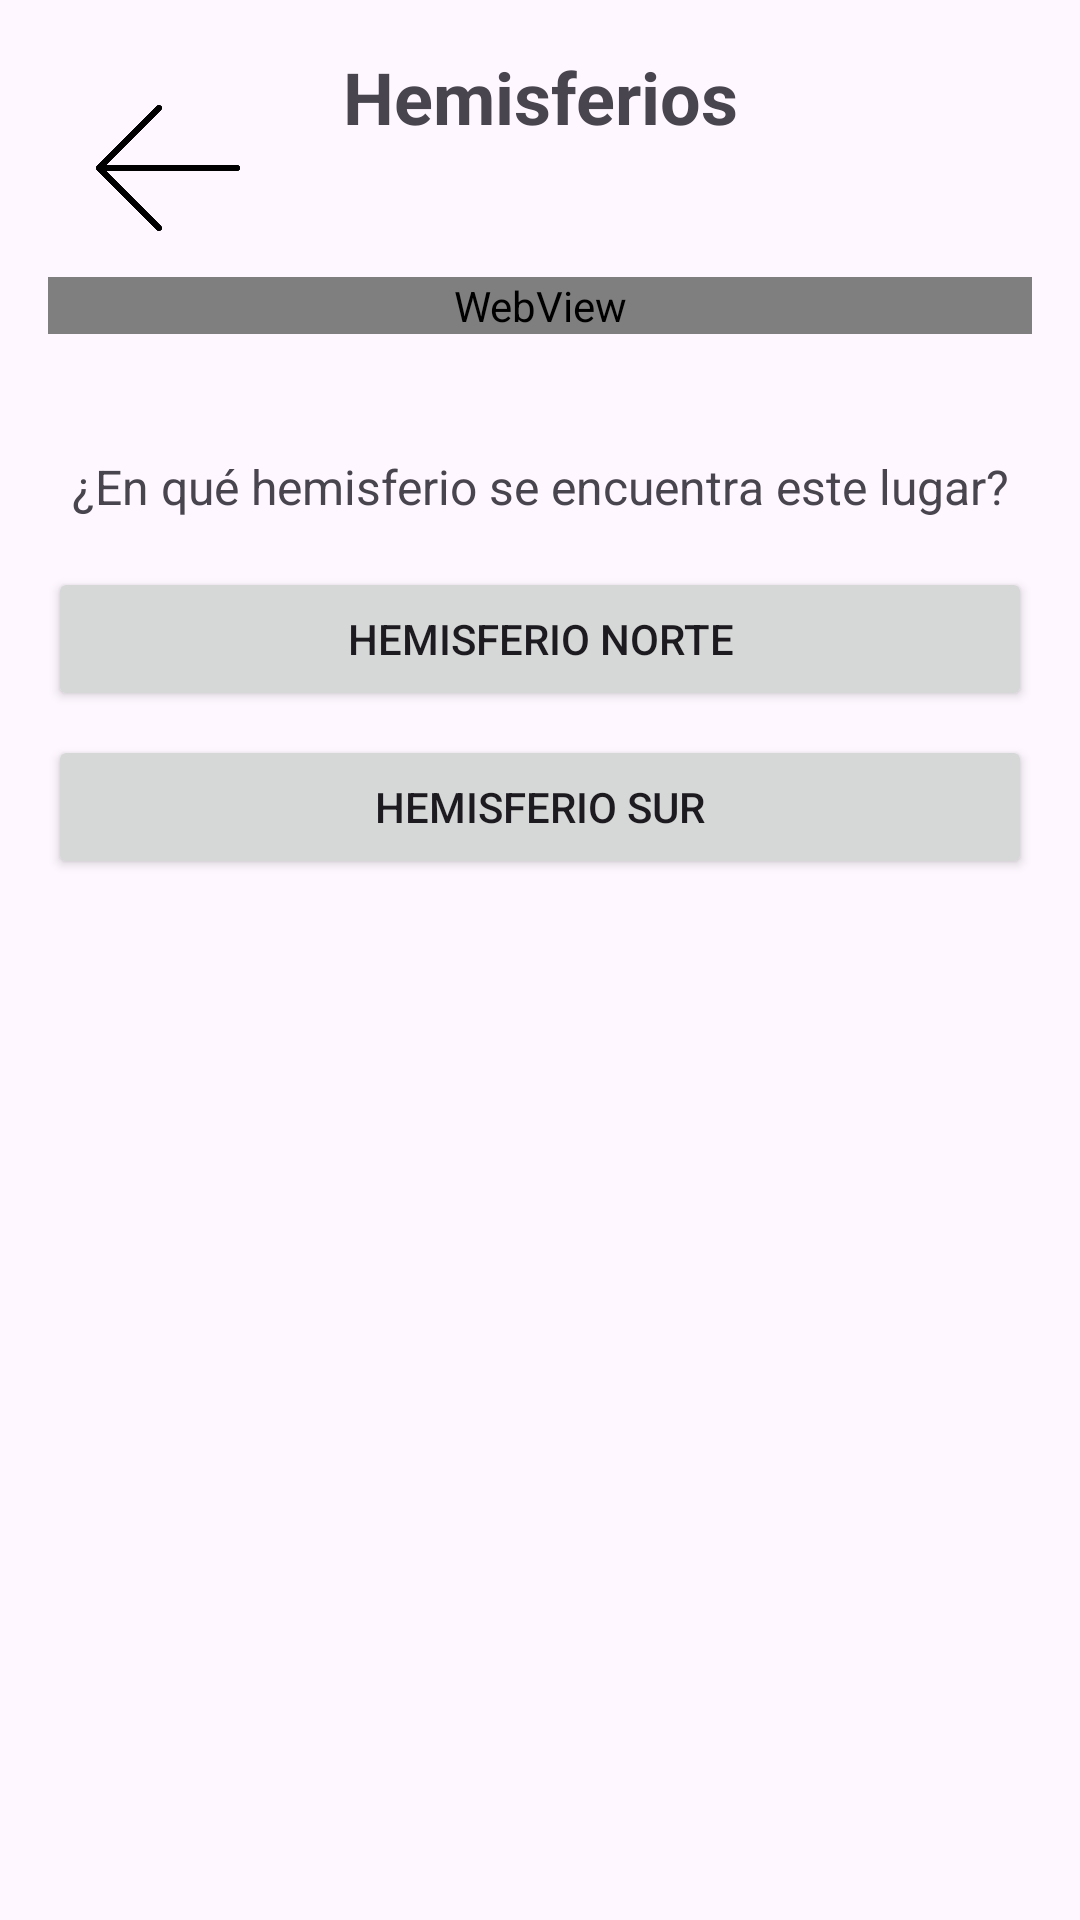

Where to tap for icons on this 1080 × 1920 app screen, as (x,y):
Botón de volver: (168,168)
